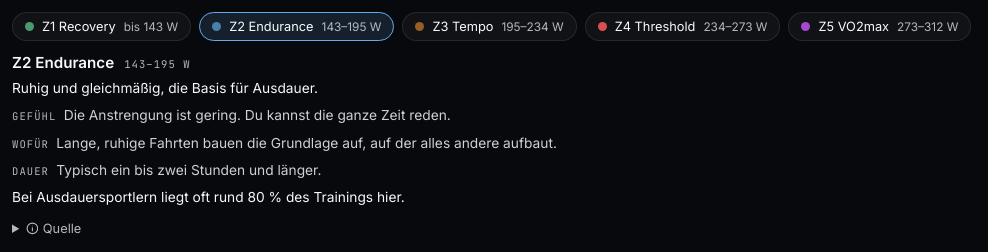
ZoneExplainer — Auswahl › wechselt per Klick die Zone; der 80-%-Satz steht nur im Easy-Block
Click the button "Z4 Threshold 234–273 W".
click(683, 26)  # box [585,12,780,41]
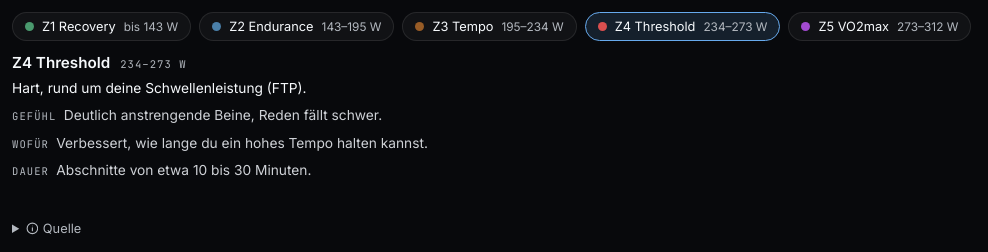
Now the text "Gefühl" shows "Deutlich anstrengende Beine, Reden fällt schwer.", box [64,107,382,123]
Now the text "Gefühl" no longer shows "Bei Ausdauersportlern liegt oft rund 80 % des Trainings hier."
